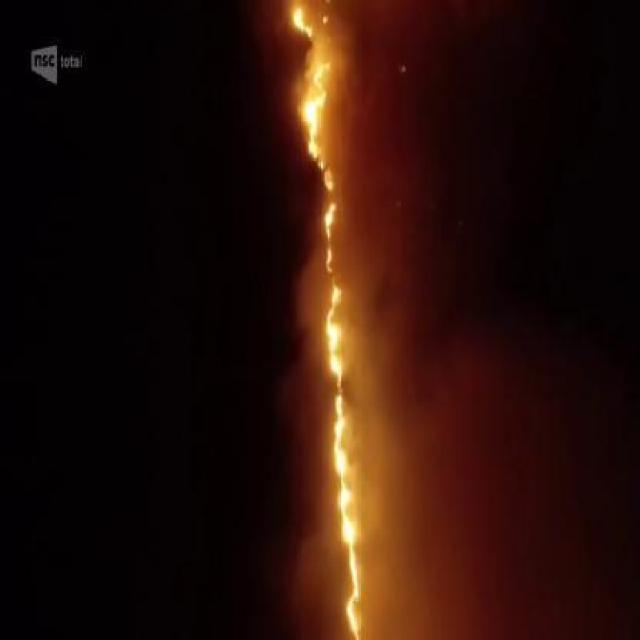Fire: (284, 6, 366, 638)
